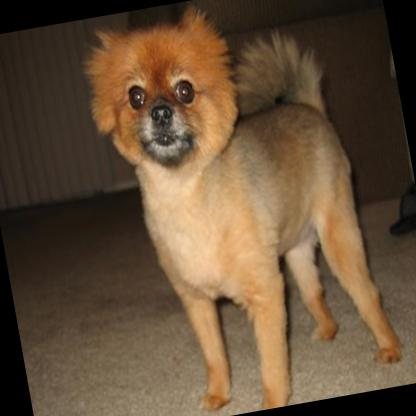Pomeranian: (74, 0, 407, 416)
